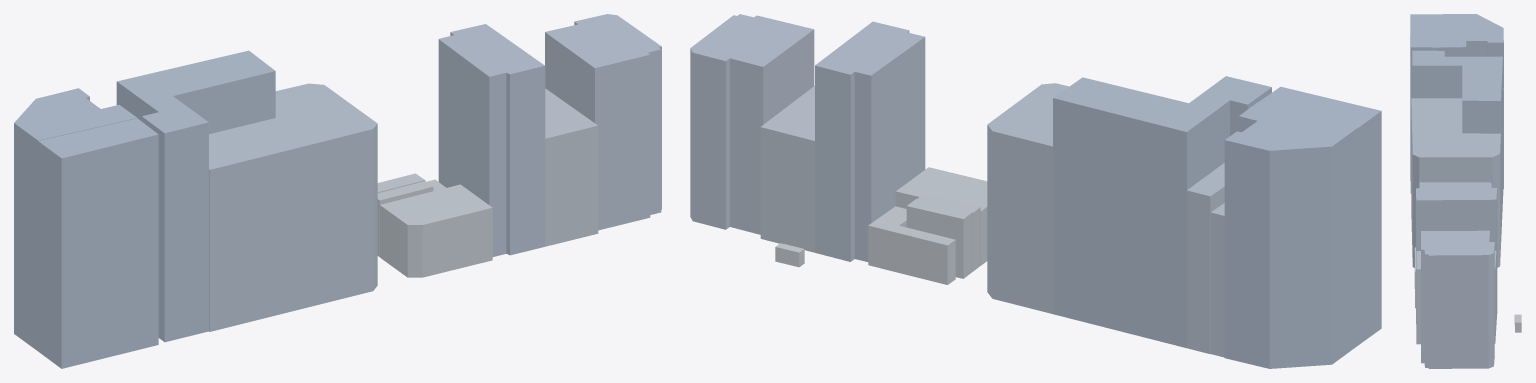
The picture shows the model from 3 angles, left to right: view 1: azimuth 30°, elevation 25°; view 2: azimuth 150°, elevation 25°; view 3: azimuth 270°, elevation 25°; orthographic projection. The views are drawn at different scales.
Size of the model in its own units: 135 by 44.5 by 30.68.
